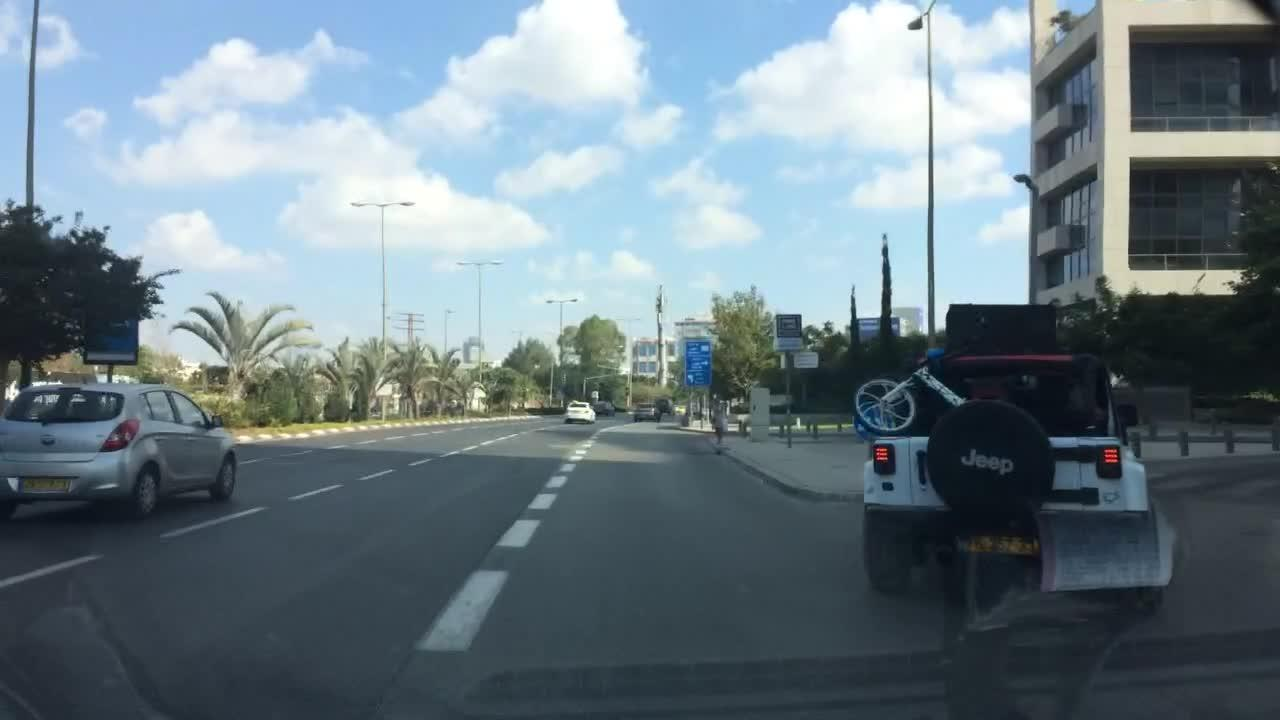jeep: (957, 438, 1016, 485)
